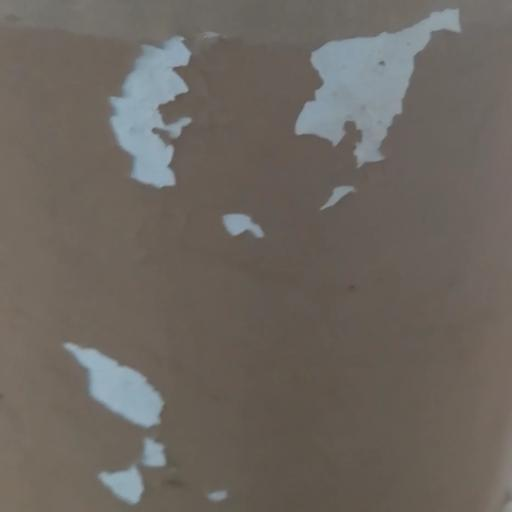peeling: (283, 0, 462, 224), (59, 339, 227, 512), (92, 20, 230, 200), (207, 191, 269, 246)
